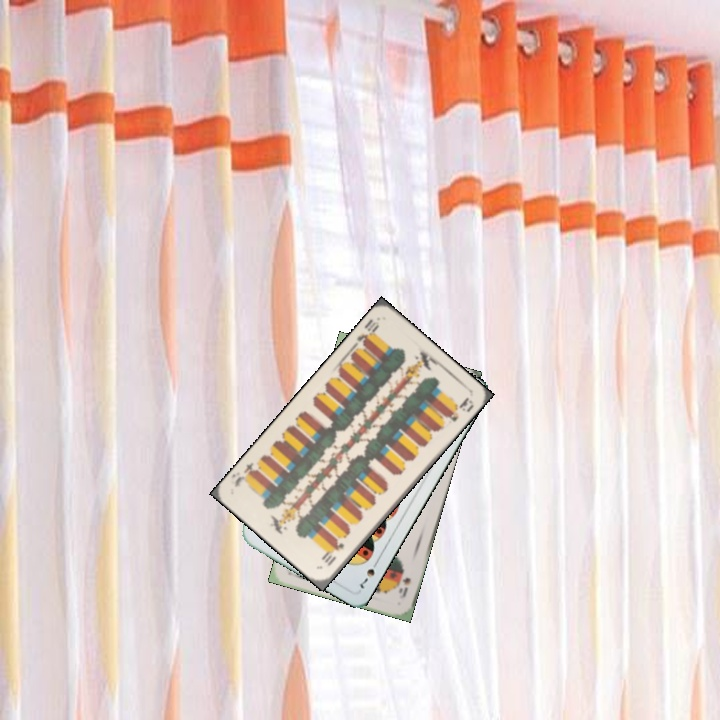E10: (350, 314, 382, 350), (319, 539, 347, 568)
S7: (356, 555, 382, 591)
SO: (395, 565, 413, 601)
